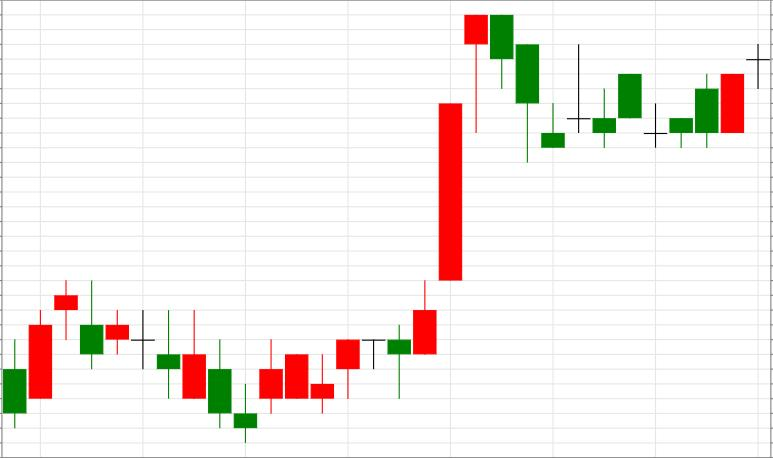hanging_man_fall: (311, 14, 489, 414)
